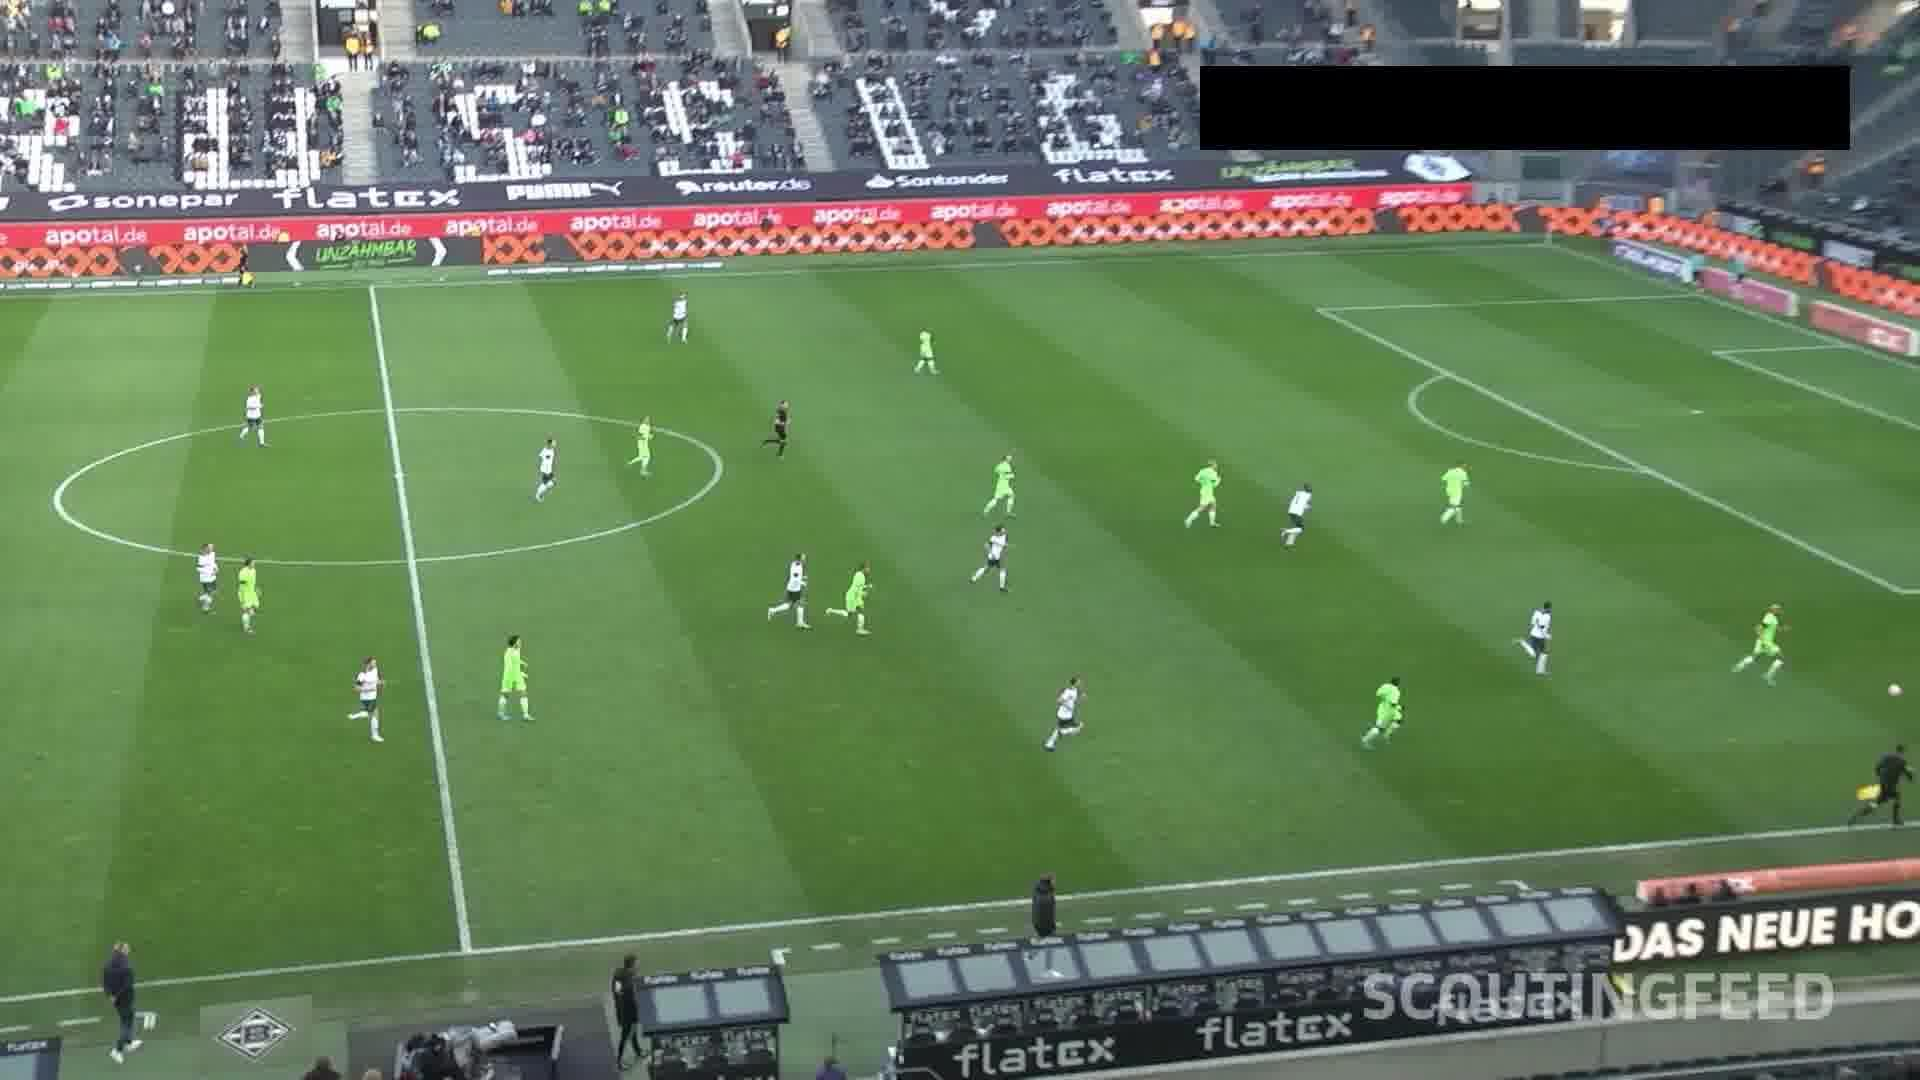football: (1887, 680, 1903, 698)
